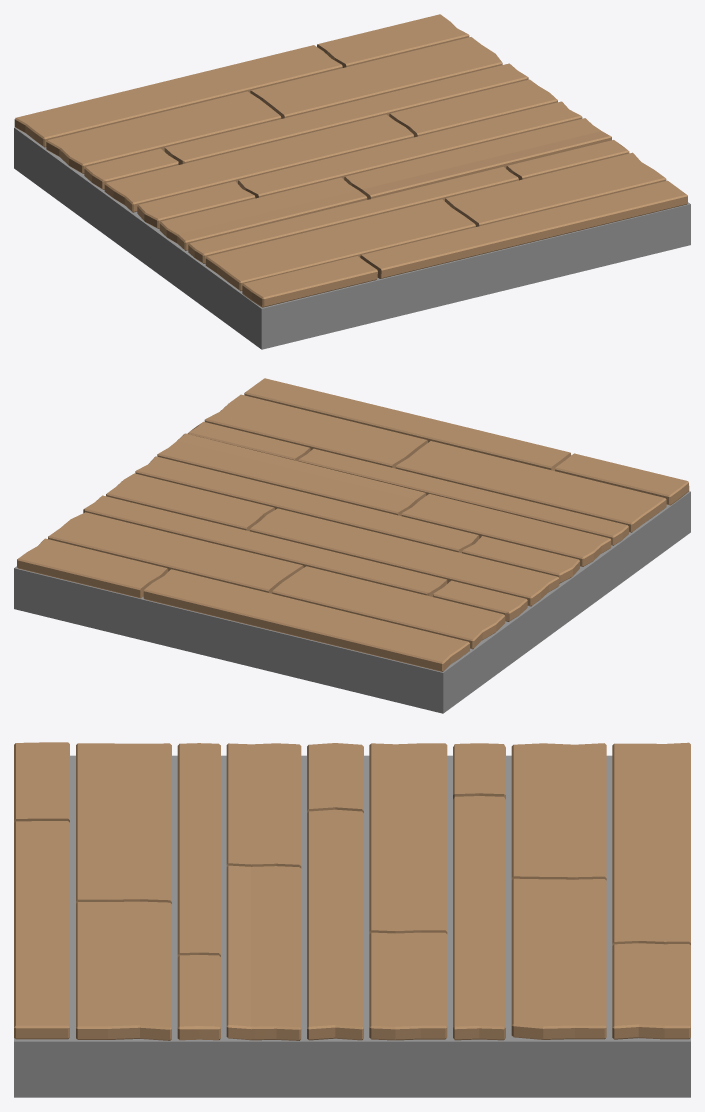
Rendered from foundation-b.glb.
3 renders of one model, top to bottom at view 1: azimuth 30°, elevation 25°; view 2: azimuth 150°, elevation 25°; view 3: azimuth 270°, elevation 25°, orthographic. The views are drawn at different scales.
Parts seen in each view (by area): view 1: Foundation B (×2); view 2: Foundation B (×2); view 3: Foundation B (×2).
Part boxes in pixels (x1,y1,x2,y2): Foundation B (×2): [14, 14, 690, 349]; Foundation B (×2): [14, 378, 690, 713]; Foundation B (×2): [14, 742, 690, 1097].
Bounding box in the file's own units: 3.3 × 0.3838 × 3.3.
